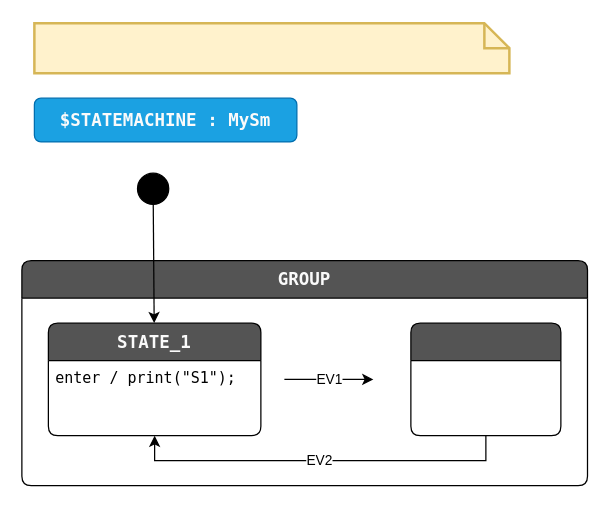
Some shapes in this 610 by 508 pixel diagram are drawn without their labels. The shapes that lost their labels are listed below. From the top down, each one's centre as x and y in pixels, then its label:
the point at 271,47: tests bad edge
the point at 485,379: STATE_2
